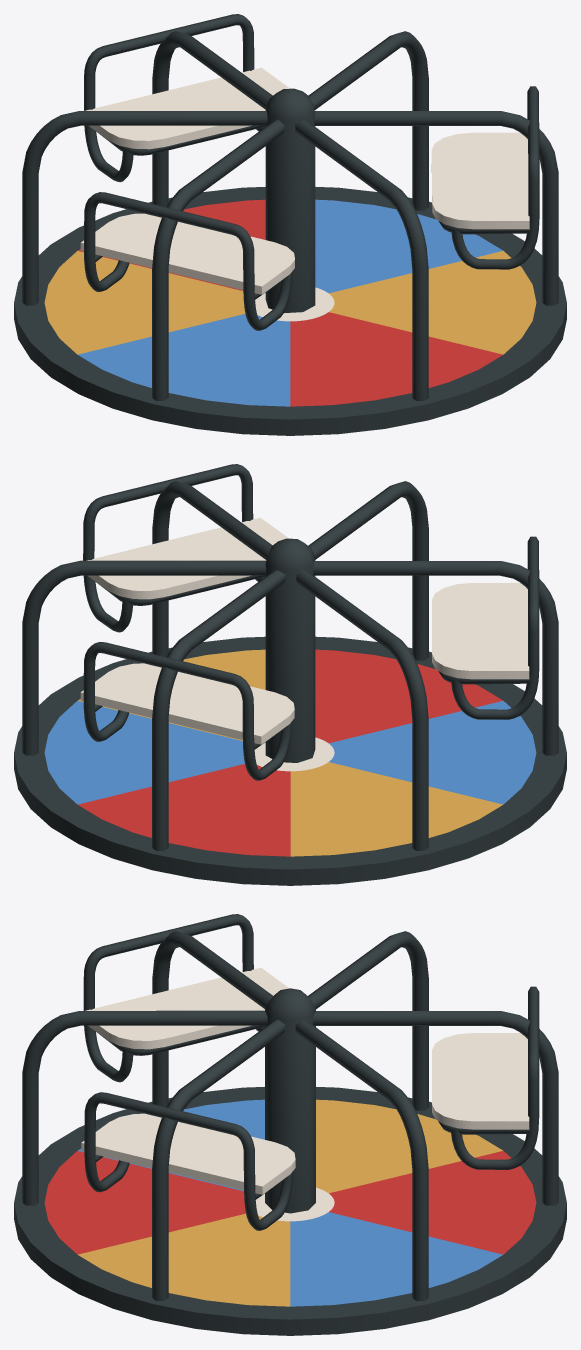
File: Roundabout_01.fbx
3 renders of one model, top to bottom at view 1: azimuth 30°, elevation 25°; view 2: azimuth 150°, elevation 25°; view 3: azimuth 270°, elevation 25°, orthographic.
Parts seen in each view (by area): view 1: Roundabout_01; view 2: Roundabout_01; view 3: Roundabout_01.
Part boxes in pixels (x1,y1,x2,y2): Roundabout_01: (14, 14, 566, 435); Roundabout_01: (14, 464, 566, 885); Roundabout_01: (14, 914, 566, 1335).
Size of the model in its own units: 2.49 by 1.13 by 2.49.
